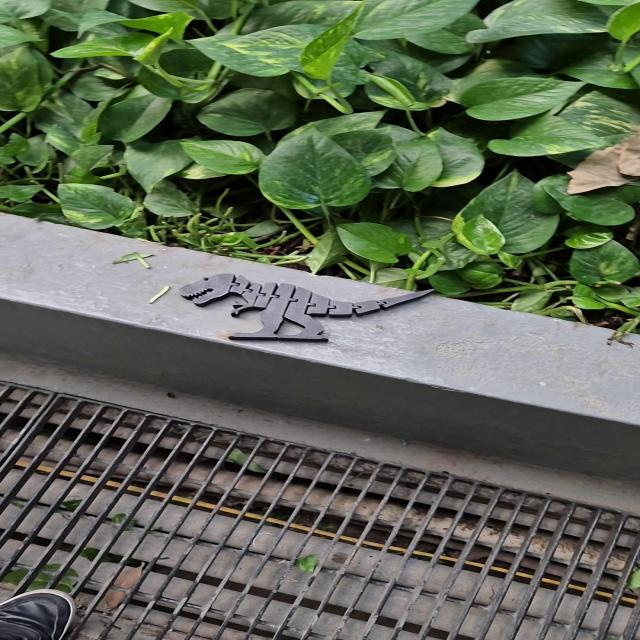dino: (177, 273, 437, 343)
